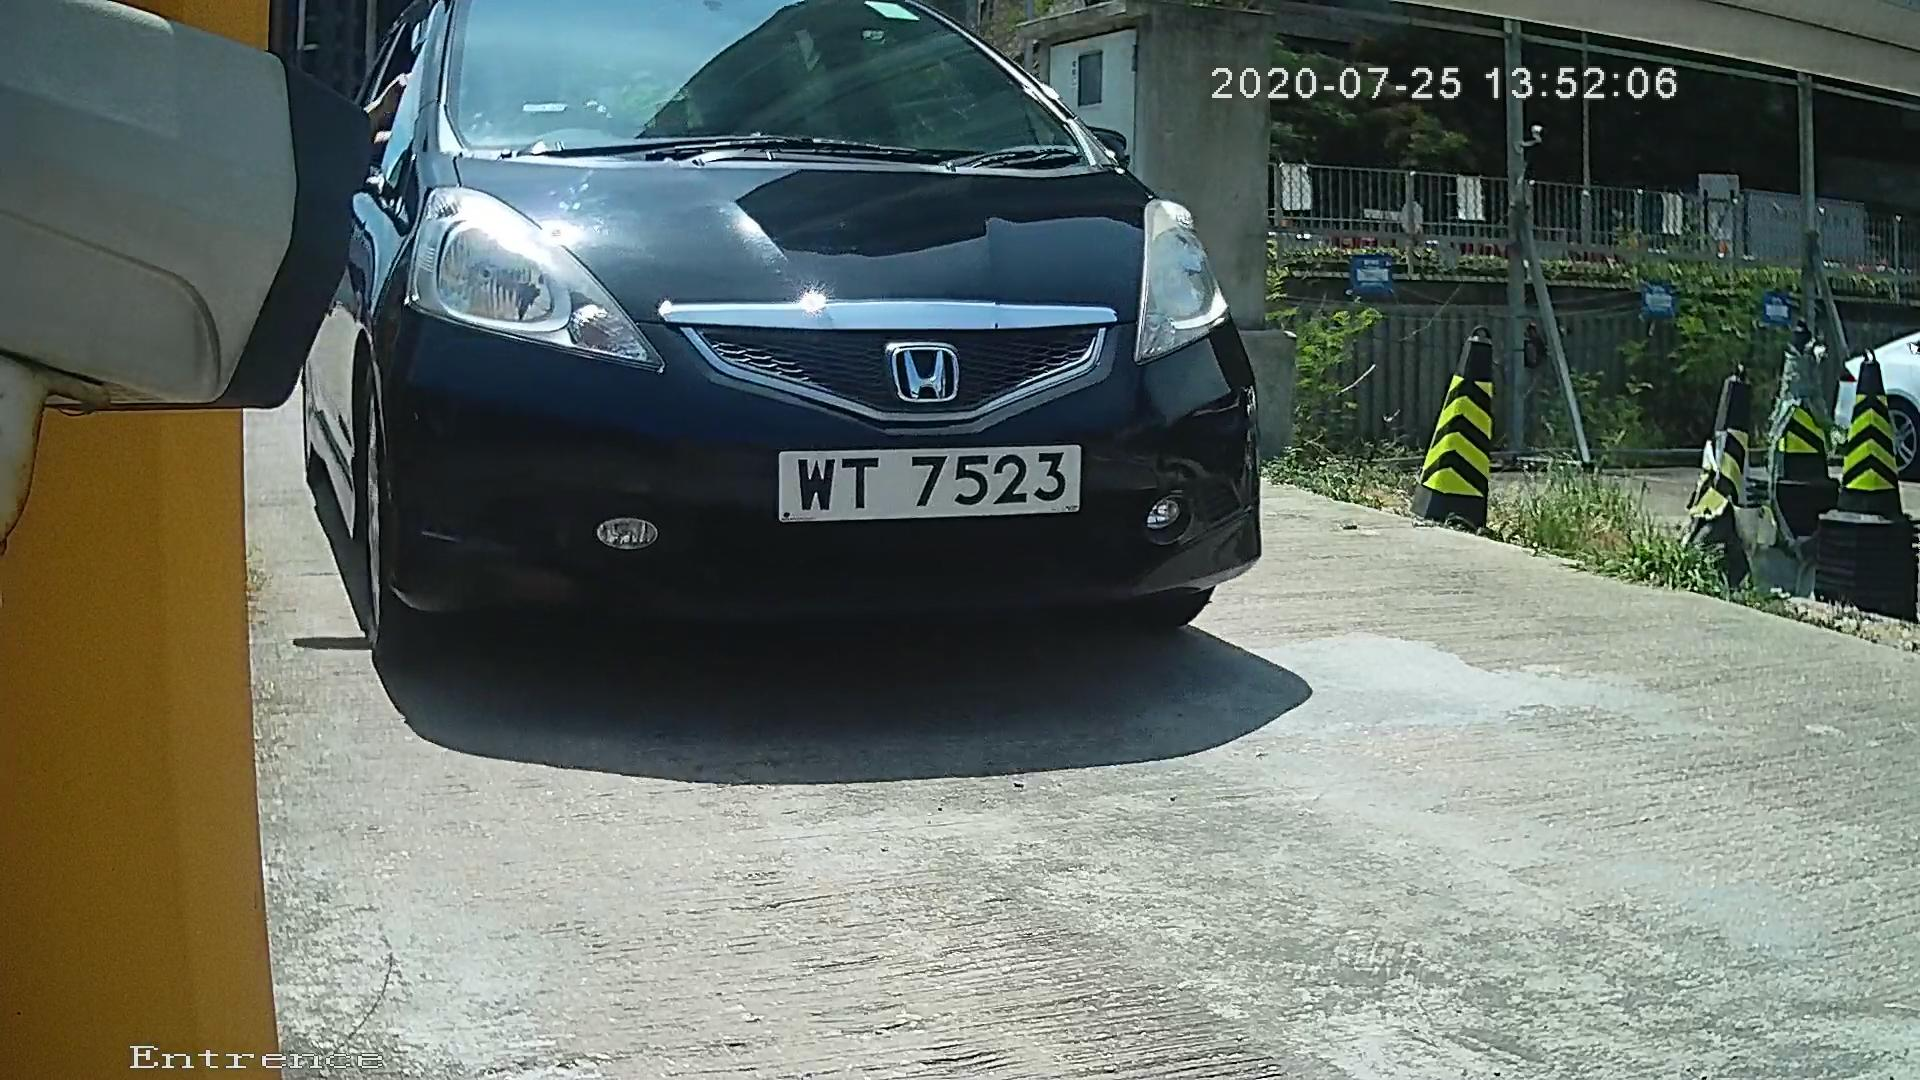Car: (138, 1, 1372, 738)
License Plate: (738, 434, 1098, 536)
